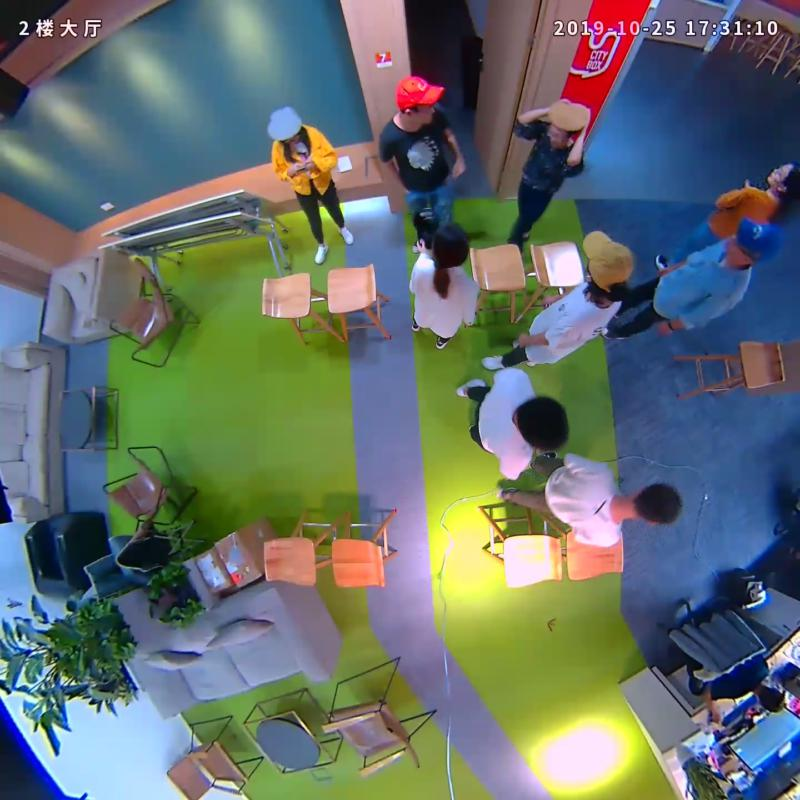head: (580, 229, 635, 294), (517, 396, 568, 452), (725, 217, 780, 268), (394, 74, 445, 124), (630, 483, 684, 528), (547, 98, 590, 150), (431, 221, 471, 269), (266, 107, 302, 146), (767, 161, 800, 197)
